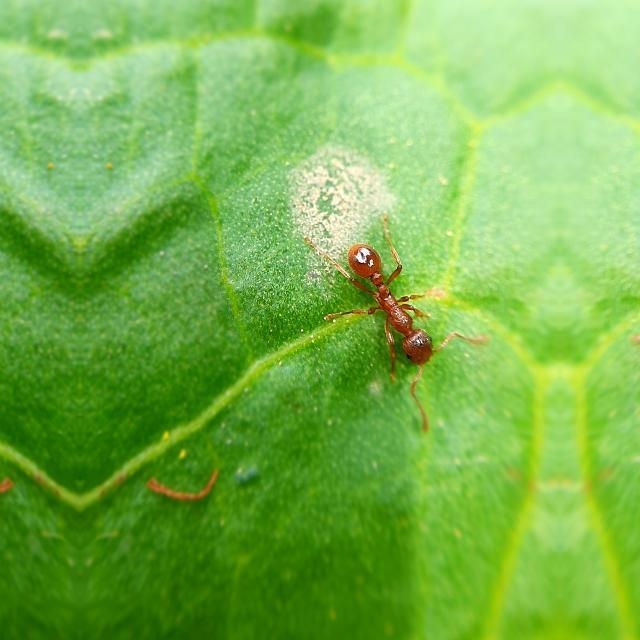Myrmica: (326, 212, 464, 396)
